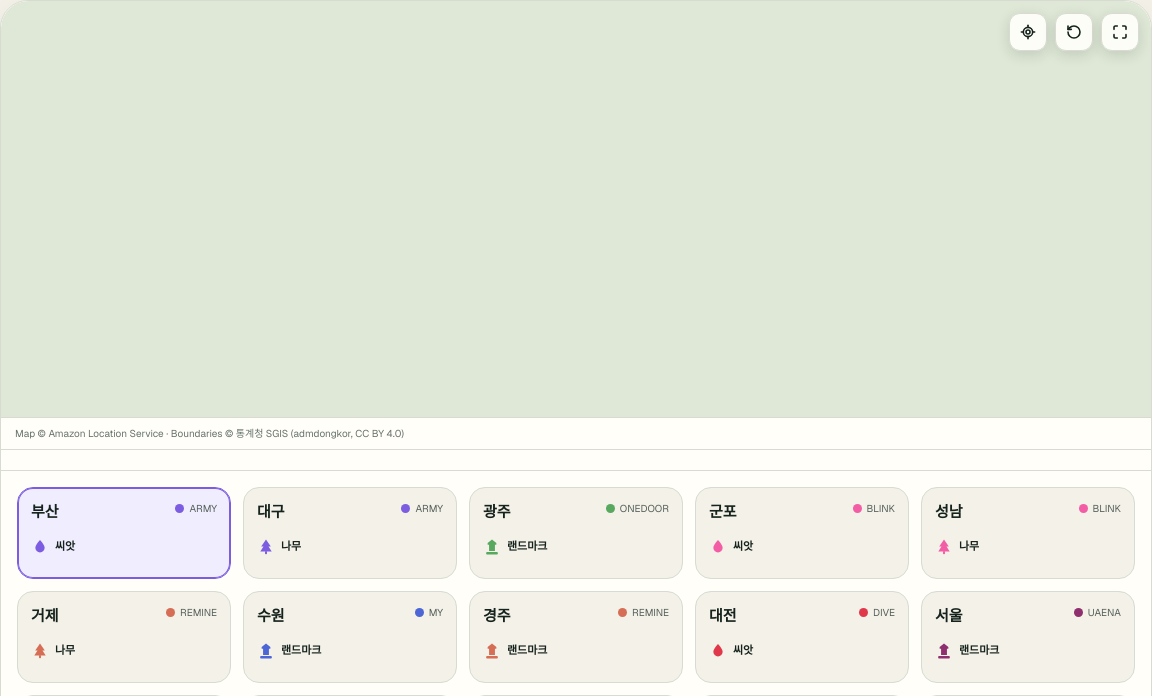
Test: denied location permission shows an inline hint instead of throwing
Click the button named "내 위치로 이동".
click(1028, 32)  # box [1009,13,1047,51]
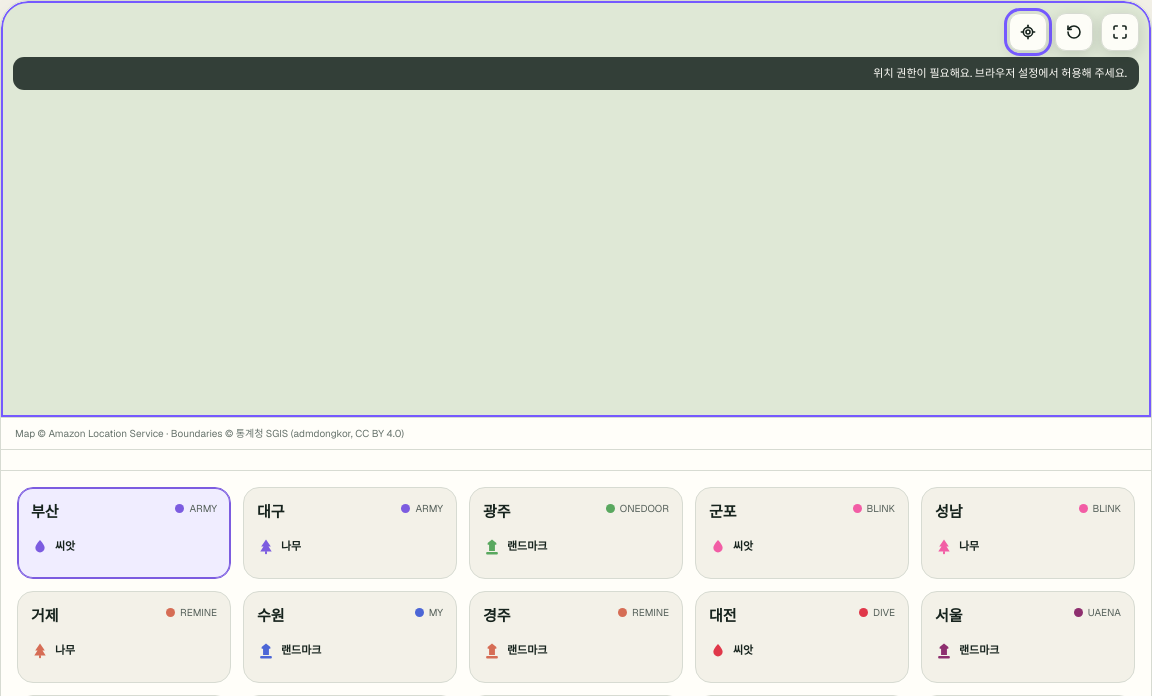
Result: the text "위치 권한이 필요해요. 브라우저 설정에서 허용해 주세요." is shown at [13,57,1139,90]
